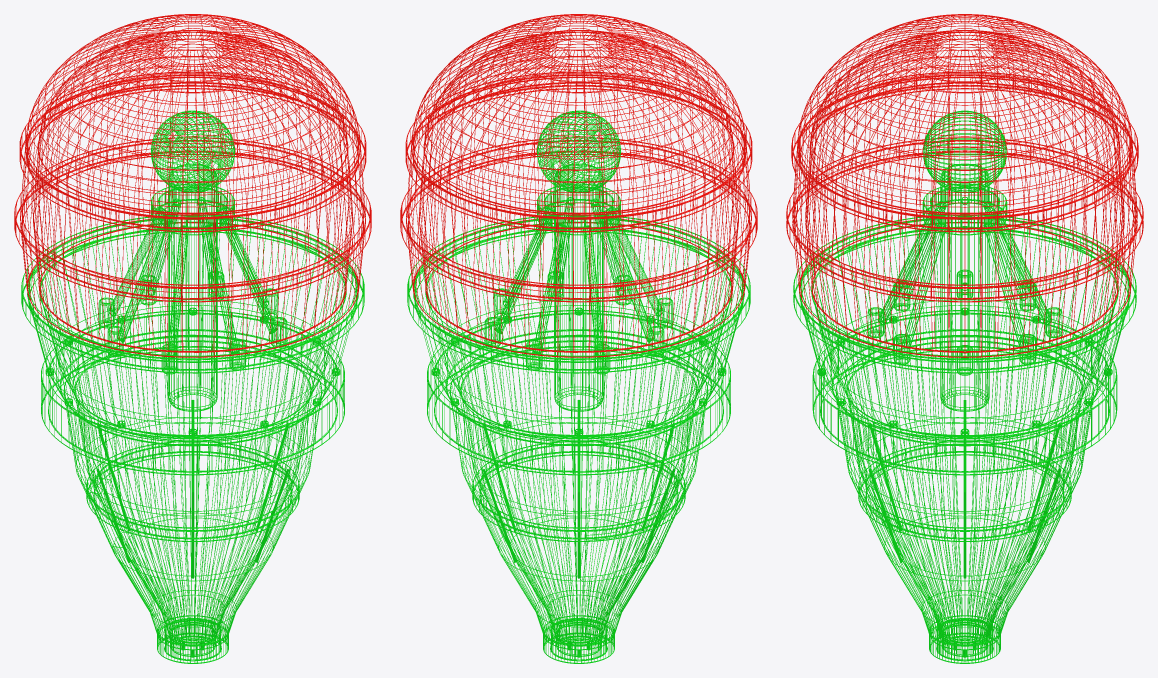
File: shield-x50-highlight-paramagnetic-shielding.glb
3 views of the same model, side by side, from view 1: azimuth 30°, elevation 25°; view 2: azimuth 150°, elevation 25°; view 3: azimuth 270°, elevation 25° (orthographic).
Visible parts, largest first — view 1: paramagnetic-shielding technical wire, chassis technical wire, generator-and-broadcast-system technical wire, power-input technical wire; view 2: paramagnetic-shielding technical wire, chassis technical wire, generator-and-broadcast-system technical wire, power-input technical wire; view 3: paramagnetic-shielding technical wire, chassis technical wire, generator-and-broadcast-system technical wire, power-input technical wire.
Part boxes in pixels (bbox=[...]): paramagnetic-shielding technical wire: bbox=[14, 14, 371, 357]; chassis technical wire: bbox=[21, 214, 364, 650]; generator-and-broadcast-system technical wire: bbox=[98, 110, 287, 411]; power-input technical wire: bbox=[157, 615, 228, 663]; paramagnetic-shielding technical wire: bbox=[400, 14, 757, 357]; chassis technical wire: bbox=[407, 214, 750, 650]; generator-and-broadcast-system technical wire: bbox=[484, 110, 673, 411]; power-input technical wire: bbox=[543, 615, 614, 663]; paramagnetic-shielding technical wire: bbox=[786, 14, 1143, 357]; chassis technical wire: bbox=[793, 214, 1136, 650]; generator-and-broadcast-system technical wire: bbox=[867, 110, 1062, 411]; power-input technical wire: bbox=[929, 615, 1000, 663].
Size of the model in its own units: 2.05 by 3.9 by 2.05.
